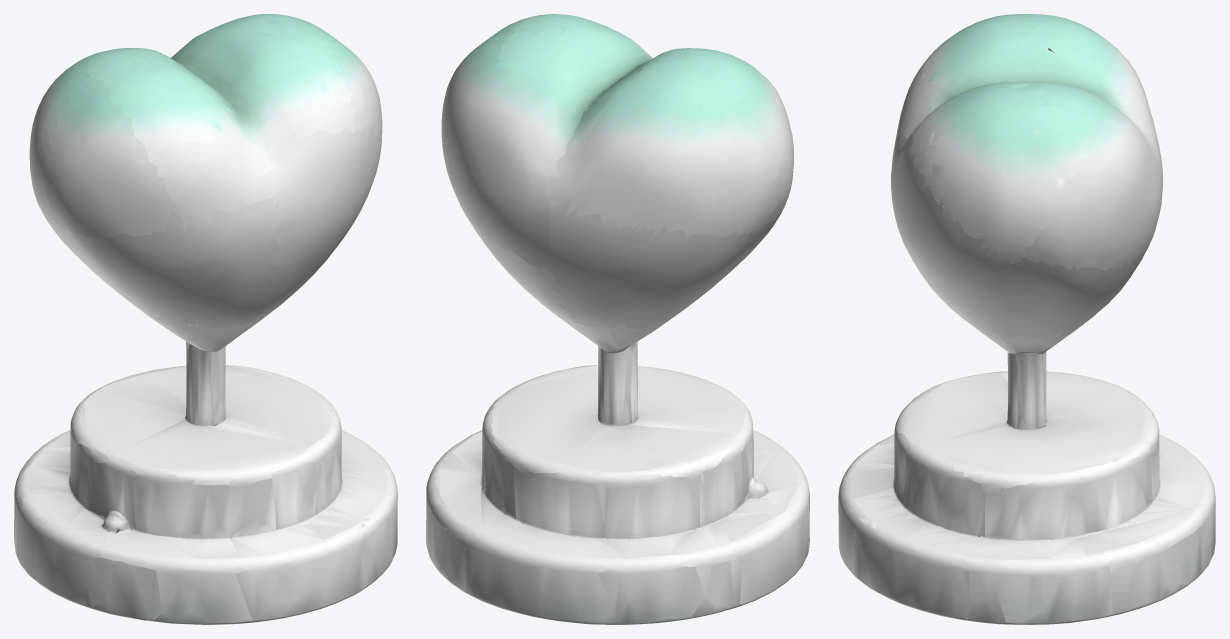
The model's file is lp_prop_herz.glb.
3 views of the same model, side by side, from view 1: azimuth 30°, elevation 25°; view 2: azimuth 150°, elevation 25°; view 3: azimuth 270°, elevation 25° (orthographic). The views are drawn at different scales.
Visible parts, largest first — view 1: herz; view 2: herz; view 3: herz.
Part boxes in pixels (x1,y1,x2,y2): herz: (14,14,397,624); herz: (426,14,809,624); herz: (838,14,1215,624).
Bounding box in the file's own units: 0.9054 × 1.3 × 0.9057.
Materials: 1 (1 with a texture image).
